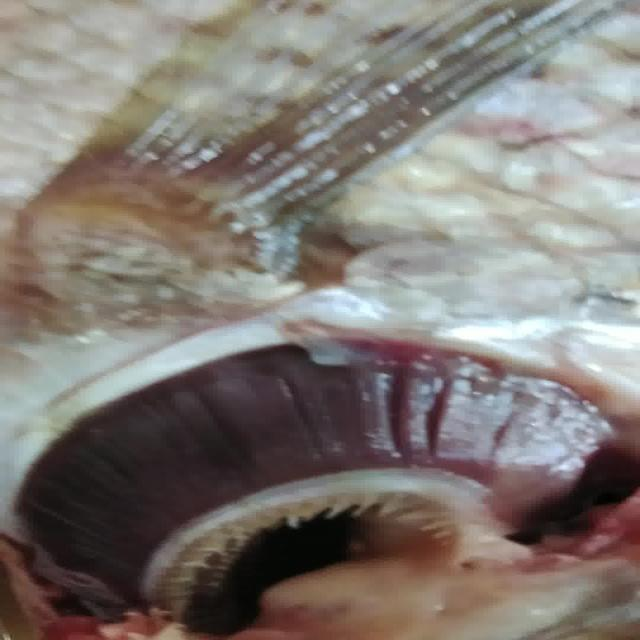Non-Fresh: (32, 338, 574, 603)
